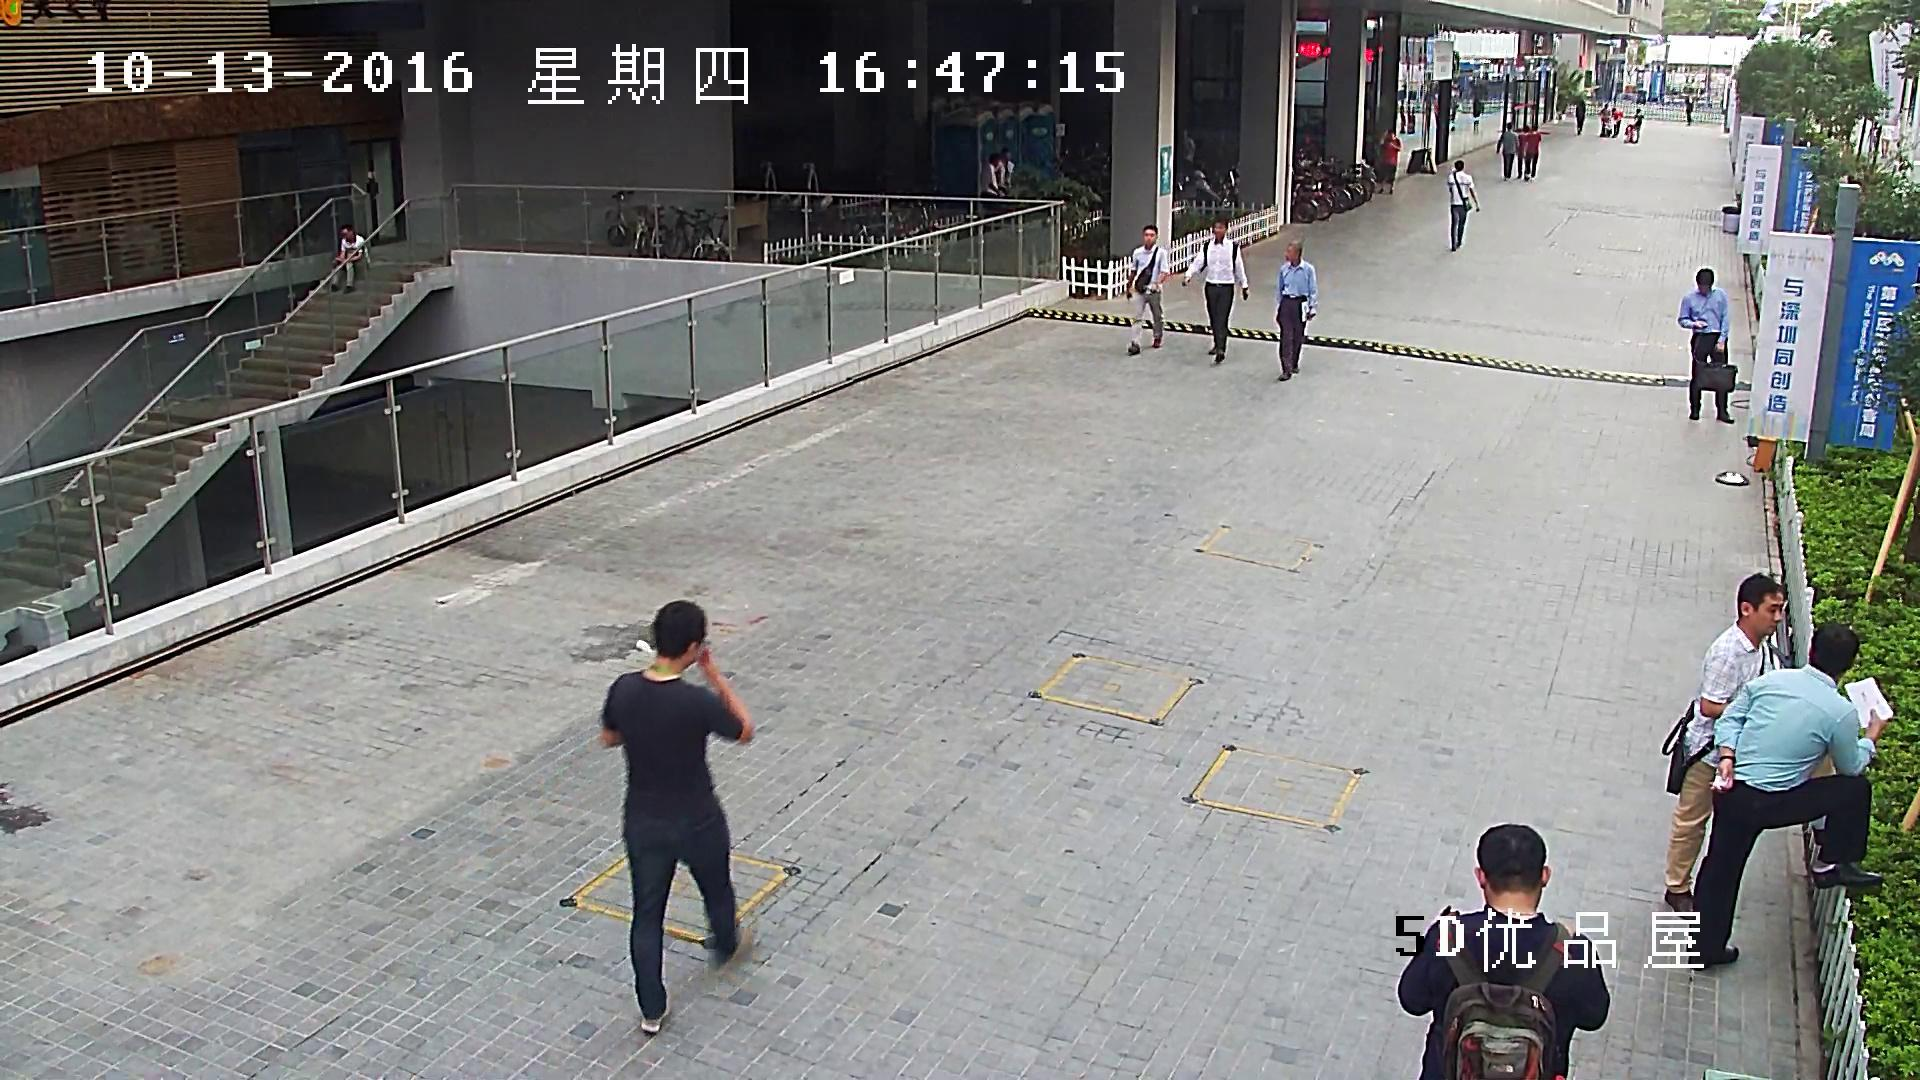person: (1686, 622, 1893, 969), (600, 600, 753, 1032), (1399, 823, 1611, 1080), (1663, 571, 1786, 923), (1182, 217, 1249, 363), (1677, 267, 1737, 423), (1275, 239, 1319, 379), (1127, 225, 1168, 353), (1447, 159, 1479, 251), (1379, 129, 1401, 194), (1496, 123, 1518, 180), (1524, 125, 1541, 179), (1624, 108, 1643, 143), (1517, 127, 1528, 176), (1575, 100, 1585, 134), (1611, 107, 1623, 137), (1868, 121, 1881, 152), (1472, 99, 1481, 131), (1599, 104, 1609, 136), (1685, 96, 1693, 124), (1881, 140, 1888, 157)
